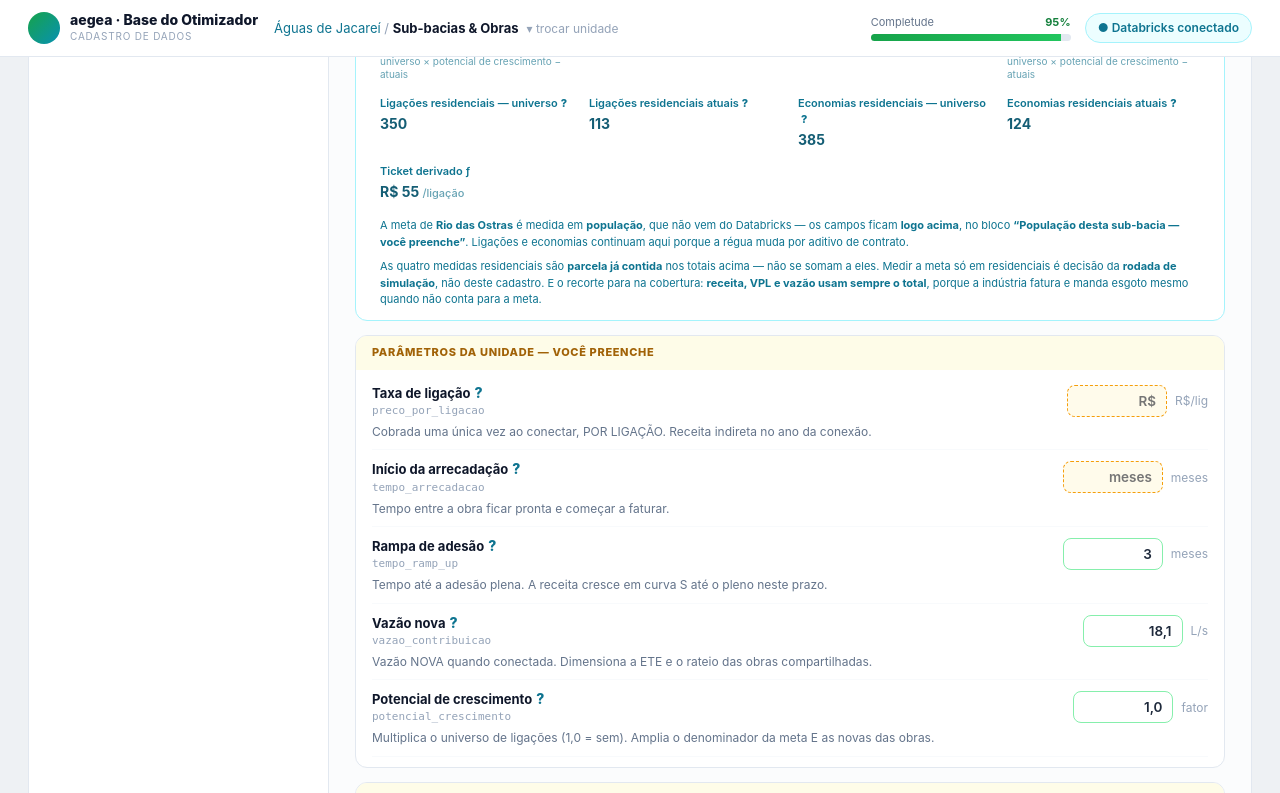
Test case: guarda de saída › sair da unidade com ficha pendente pede confirmação; cancelar mantém a tela
This screenshot has width=1280, height=793.
(page scrolled)
Type "5" into the field labelled "Taxa de ligação". click: (1117, 401)
box: [1067,385,1167,417]
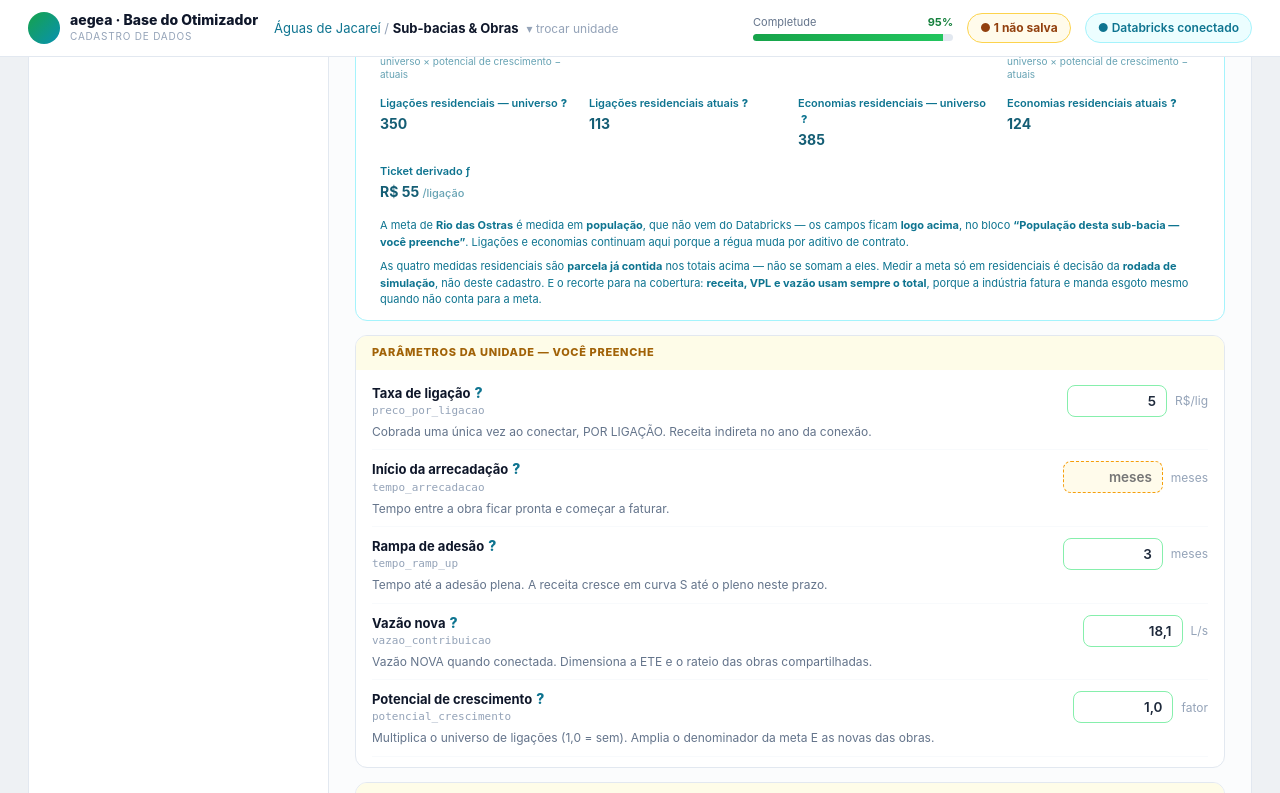
Click the button "▾ trocar unidade". click: (572, 28)
box: [526,21,618,36]
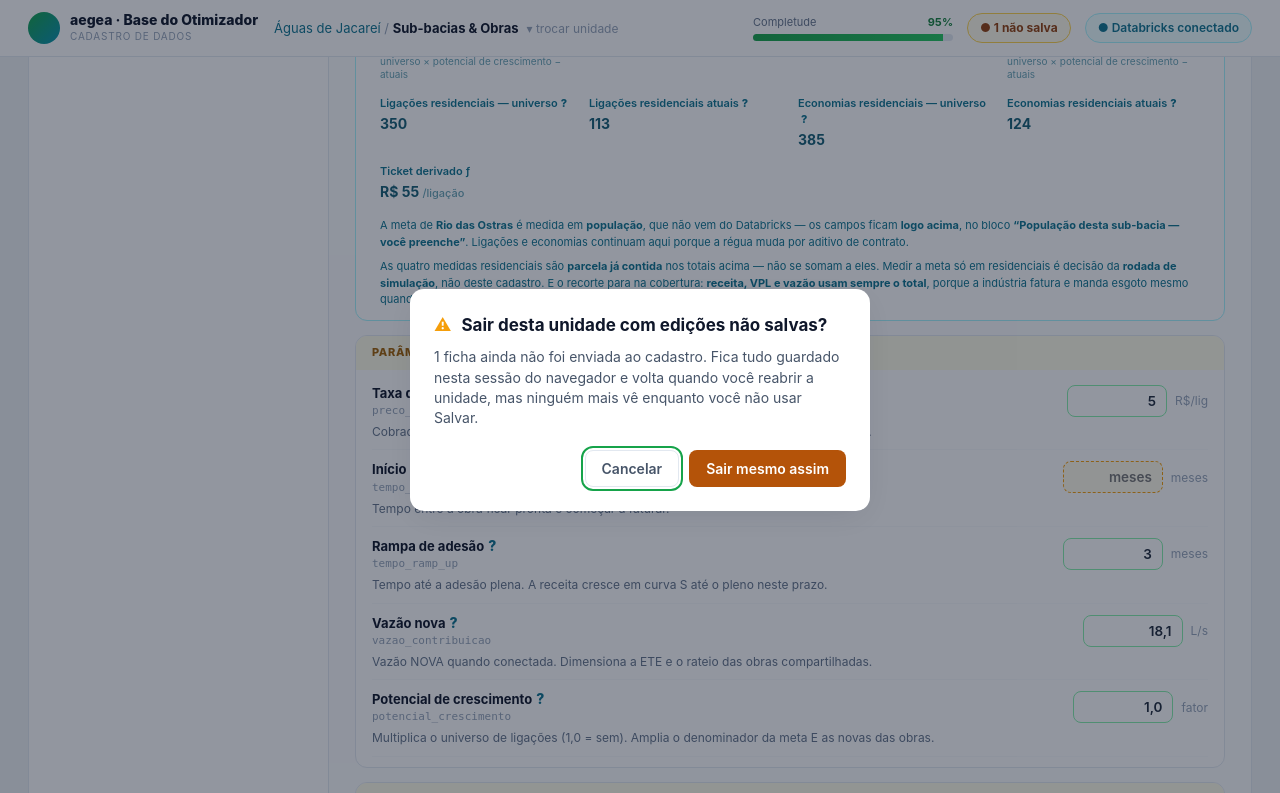
Result: the text "Sair desta unidade com edições não salvas?" is shown at [461,315,827,335]
Click the button "Cancelar". click: (632, 469)
box: [584,450,679,487]
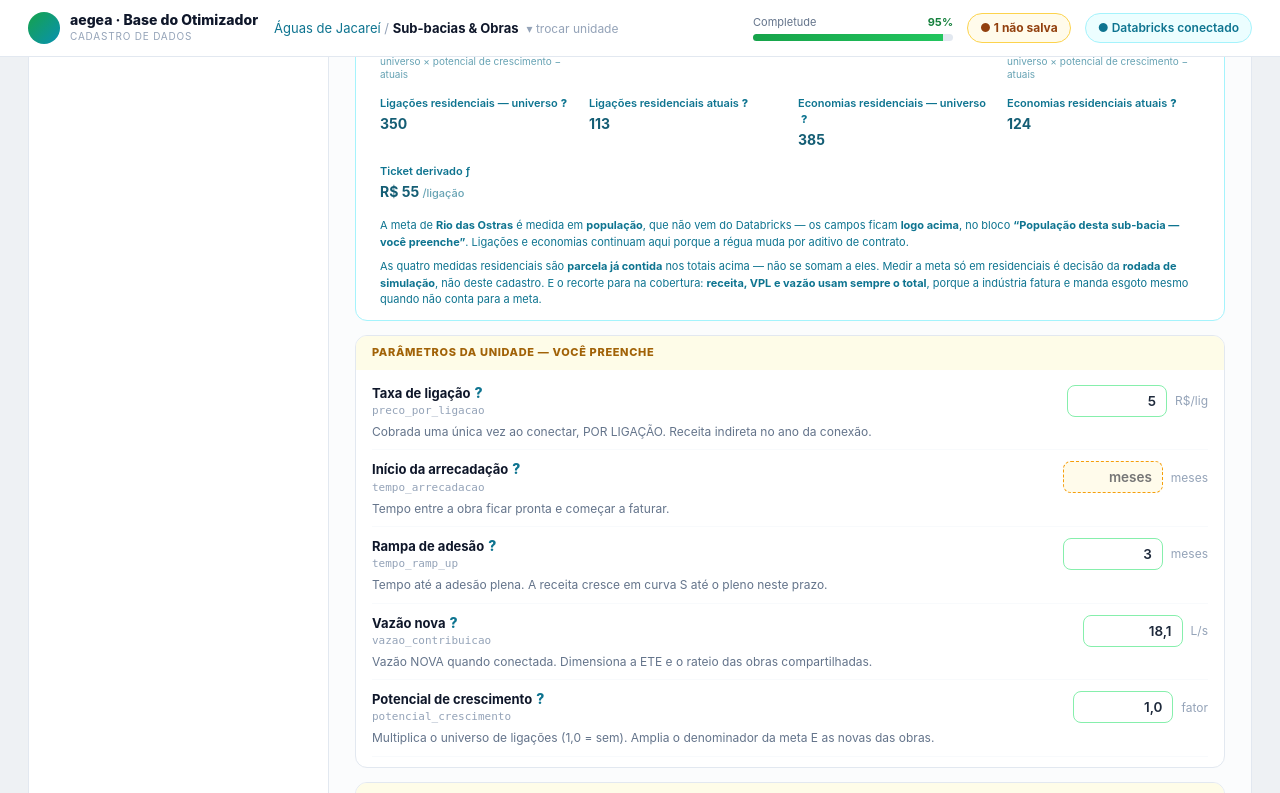
Result: the dialog is gone
